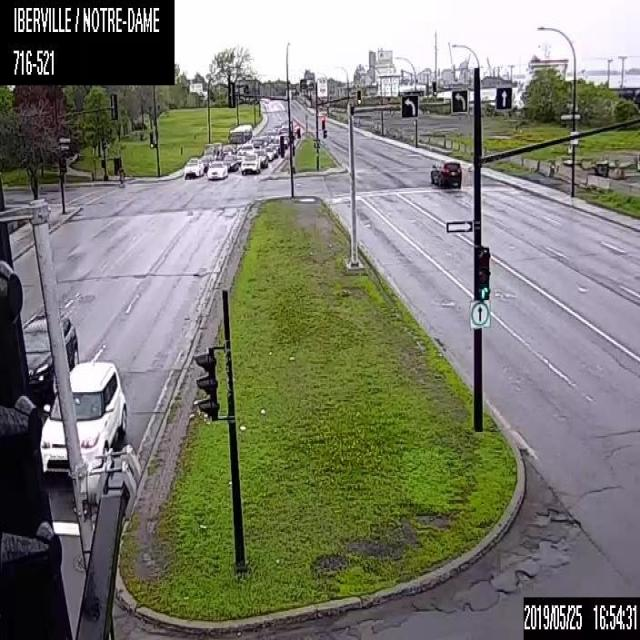bus: (227, 123, 251, 147)
pedestrian: (118, 167, 124, 185)
vehicle: (40, 359, 127, 474), (24, 312, 78, 404), (428, 157, 462, 187), (182, 156, 202, 178), (240, 152, 260, 173), (206, 160, 227, 179), (254, 148, 268, 166), (223, 154, 238, 170), (201, 153, 213, 171), (265, 146, 273, 160)
